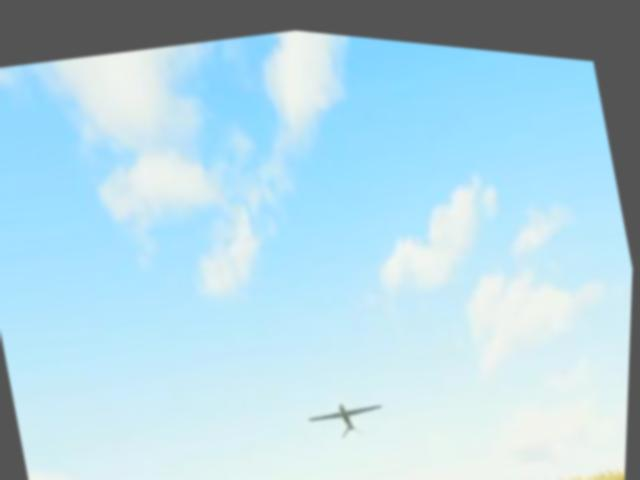uav: (306, 377, 393, 443)
